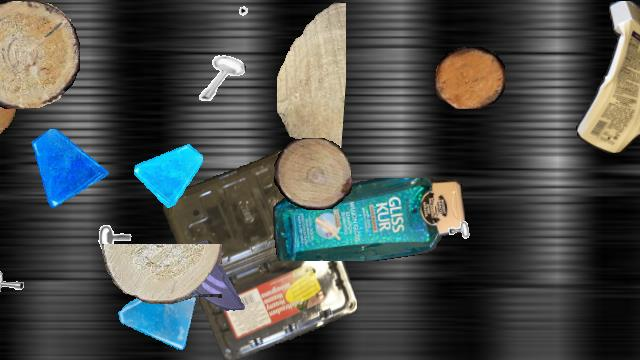glass: (116, 275, 200, 359), (29, 129, 109, 209), (170, 234, 250, 314), (134, 139, 202, 207)
metal: (195, 52, 245, 102), (96, 206, 142, 252), (439, 197, 483, 241), (0, 247, 35, 299), (238, 1, 278, 41)
plastic: (163, 149, 357, 359), (273, 178, 465, 260), (570, 1, 640, 153)
wood: (277, 1, 345, 159), (0, 1, 79, 109), (102, 244, 222, 304), (274, 138, 352, 210), (435, 47, 505, 109), (0, 20, 19, 142)
